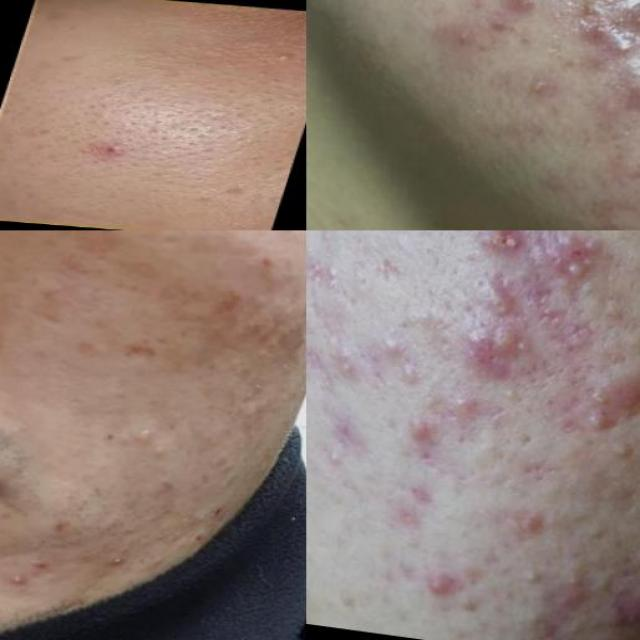8: (602, 56, 640, 131), (481, 0, 542, 43), (560, 12, 616, 55), (388, 417, 448, 457), (596, 372, 640, 420), (77, 136, 142, 166), (414, 569, 459, 608), (607, 0, 640, 42)
9: (544, 254, 600, 293), (0, 560, 35, 612)
blackheads: (452, 326, 529, 393), (102, 327, 168, 386), (468, 230, 534, 264), (606, 589, 640, 636)
